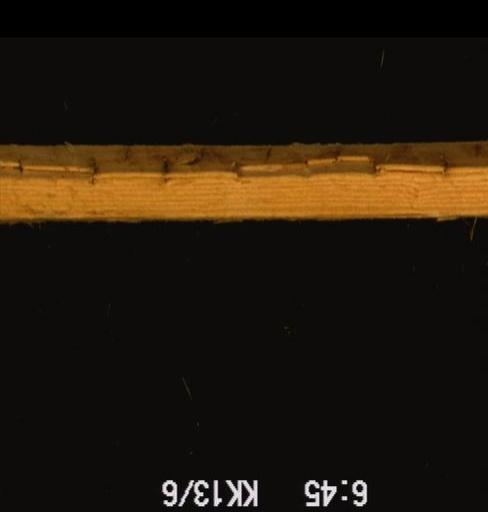wave: (0, 146, 486, 221)
